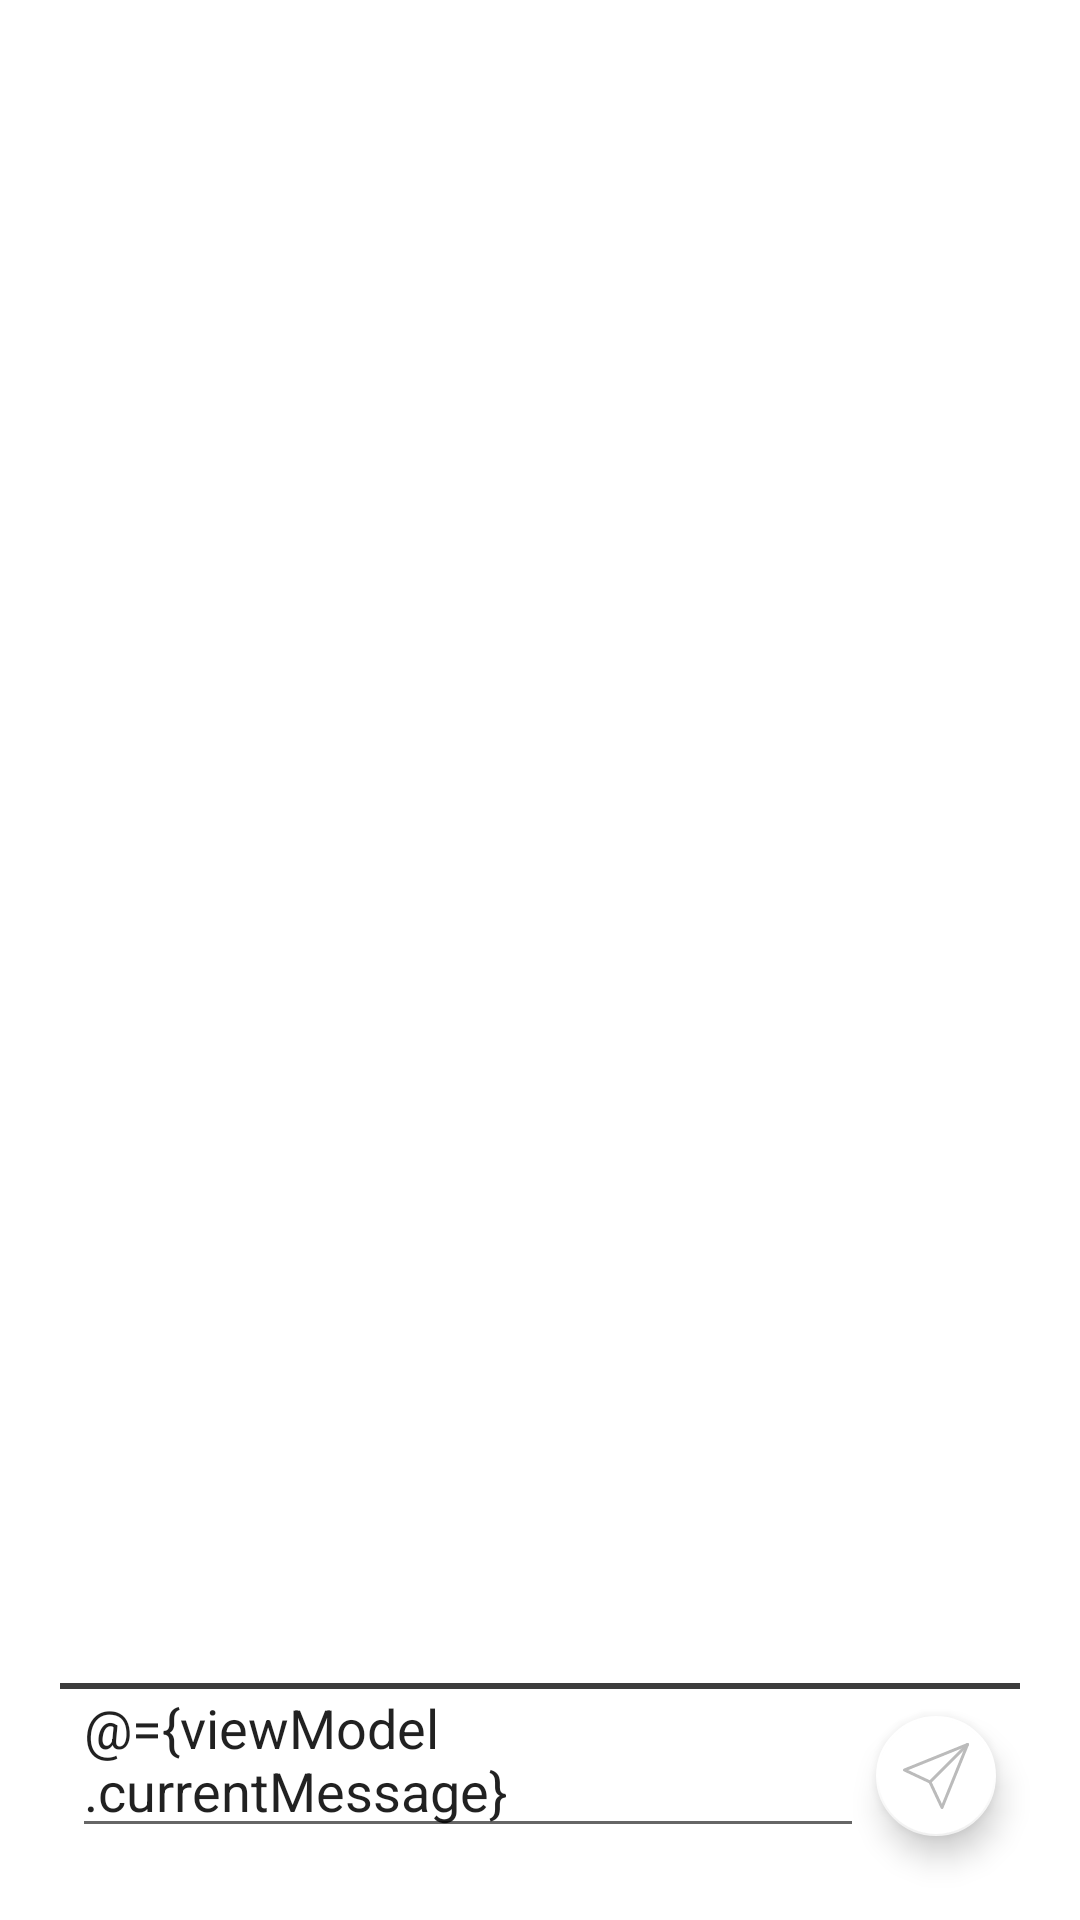

Where to tap for icons on this 1080*1920 app screen, as [x,y]:
send: [939,1795]
